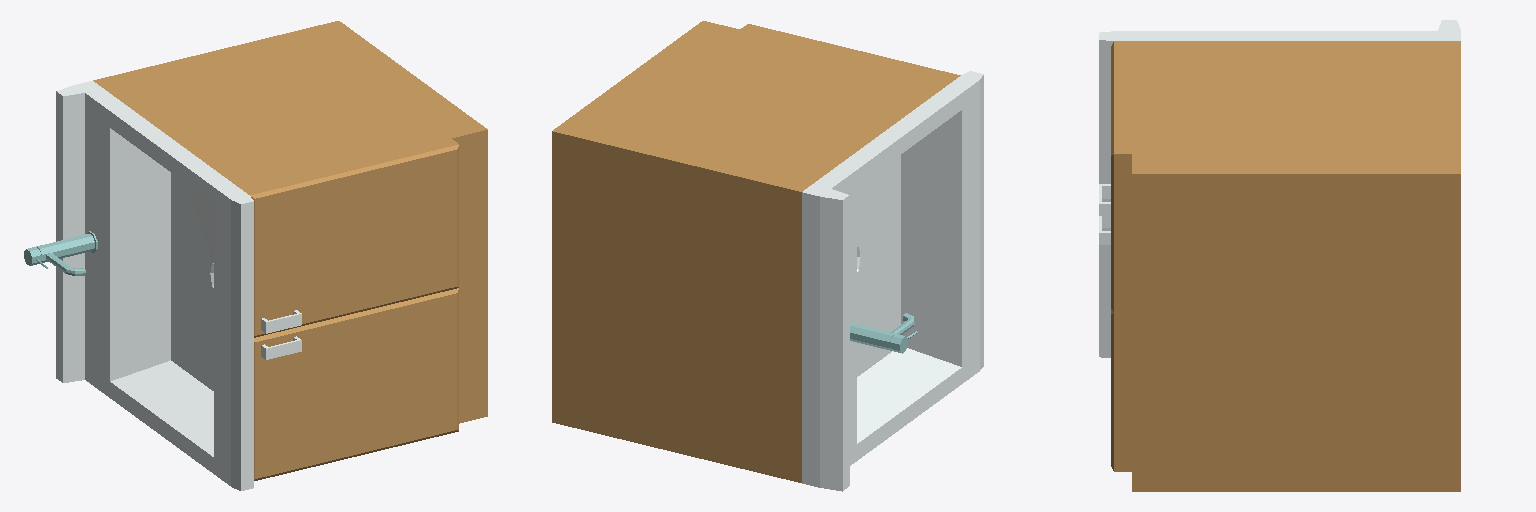
The robot description file, URDF, robot "KitchenSink":
<?xml version="1.0" ?>
<robot name="KitchenSink">
  <link name="link">
    <visual name="visual">
    <origin xyz="0 0 0" rpy="0 0 -1.5708"/>
      <geometry>
        <mesh filename="meshes/kitchenSink.dae"/>
      </geometry>
    </visual>
    <collision name="collision">
    <origin xyz="0 0 0" rpy="0 0 -1.5708"/>
      <geometry>
        <mesh filename="meshes/kitchenSink.dae"/>
      </geometry>
    </collision>
  </link>
</robot>

--- Facts derived from the render (not from the file) ---
3 views of the same robot in one strip: view 1: azimuth 30°, elevation 25°; view 2: azimuth 150°, elevation 25°; view 3: azimuth 270°, elevation 25° (orthographic).
Model KitchenSink with 1 links and 0 joints (none), rooted at link, posed every joint at zero.
Visible links, largest first — view 1: link; view 2: link; view 3: link.
Link boxes in pixels (box(x1,y1,x2,y2)): link: box(24, 21, 487, 490); link: box(552, 21, 983, 491); link: box(1099, 20, 1460, 491).
Bounding box of the posed robot: 0.9159 × 0.7902 × 0.7634 m (x, y, z).
Meshes: 1 distinct files referenced, 1 mesh visuals loaded (1 Collada DAE).